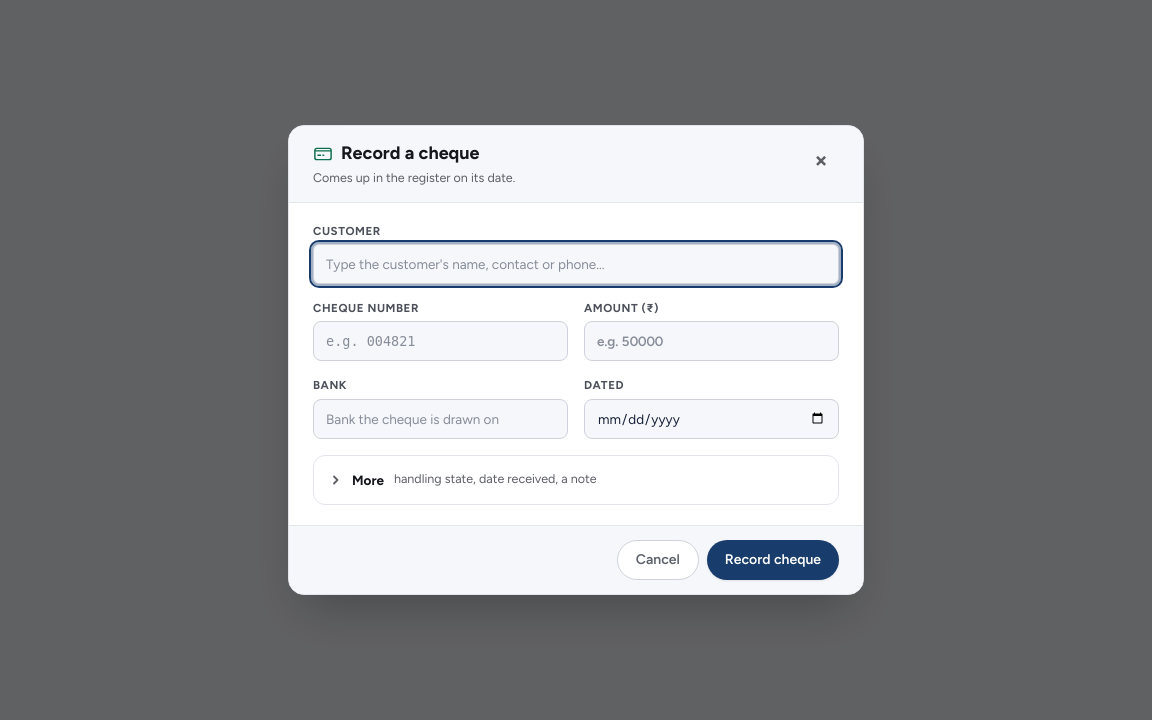
the cheque dialog on a refused save › stays open and shows the refusal; the cheque is not lost
Step 1. Type "TEST MIXED" into the field labelled "Customer" → (576,264), box [313,244,839,284]
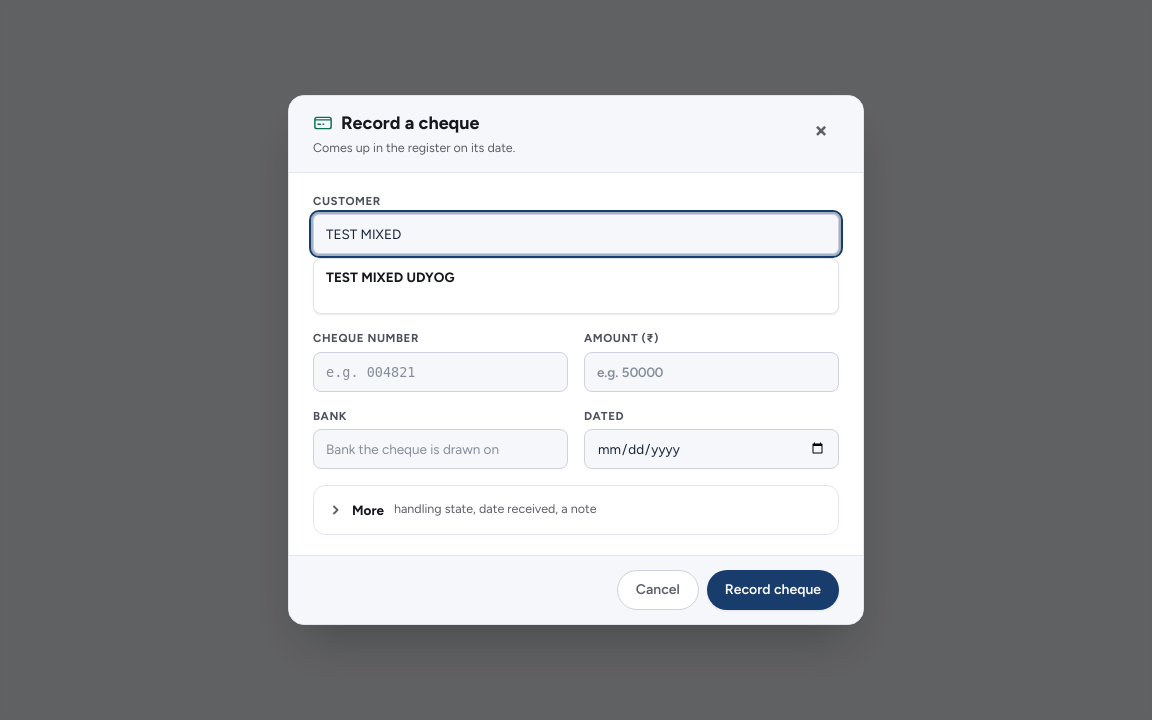
Step 2. Click the option "TEST MIXED UDYOG" → (390,277), box [314,259,838,313]
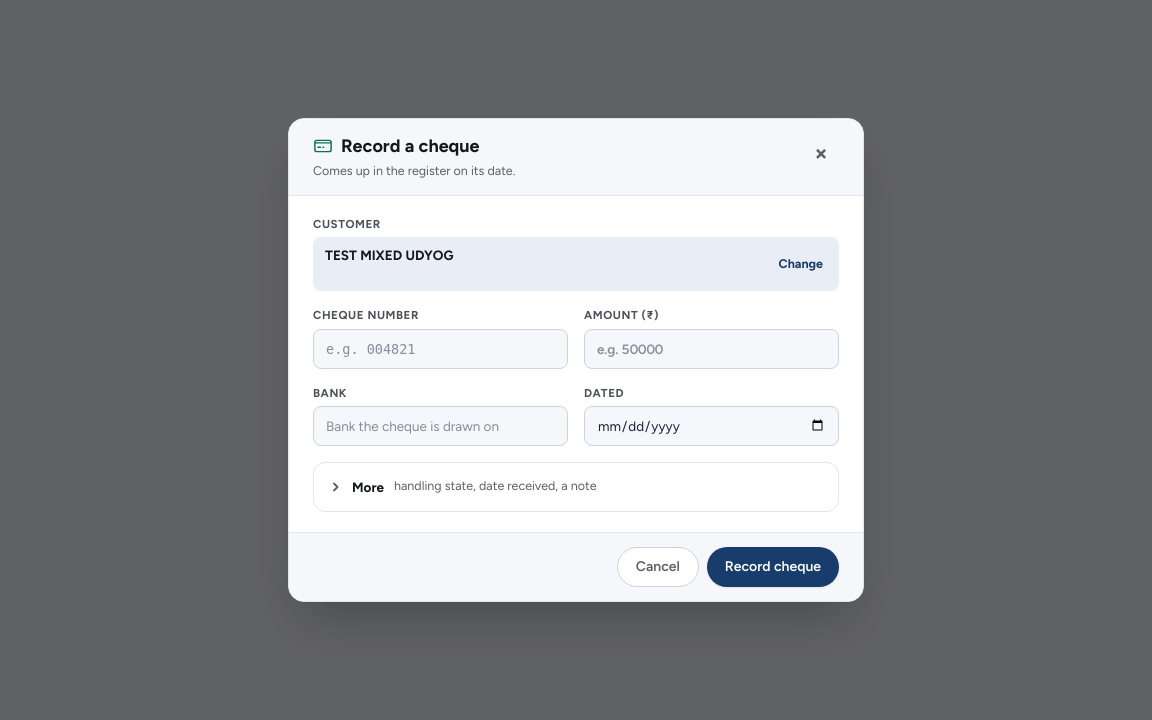
Step 3. Type "000777" into the field with placeholder "e.g. 004821" → (440,349), box [313,329,568,369]
Step 4. Type "15000" into the number field with placeholder "e.g. 50000" → (712,349), box [584,329,839,369]
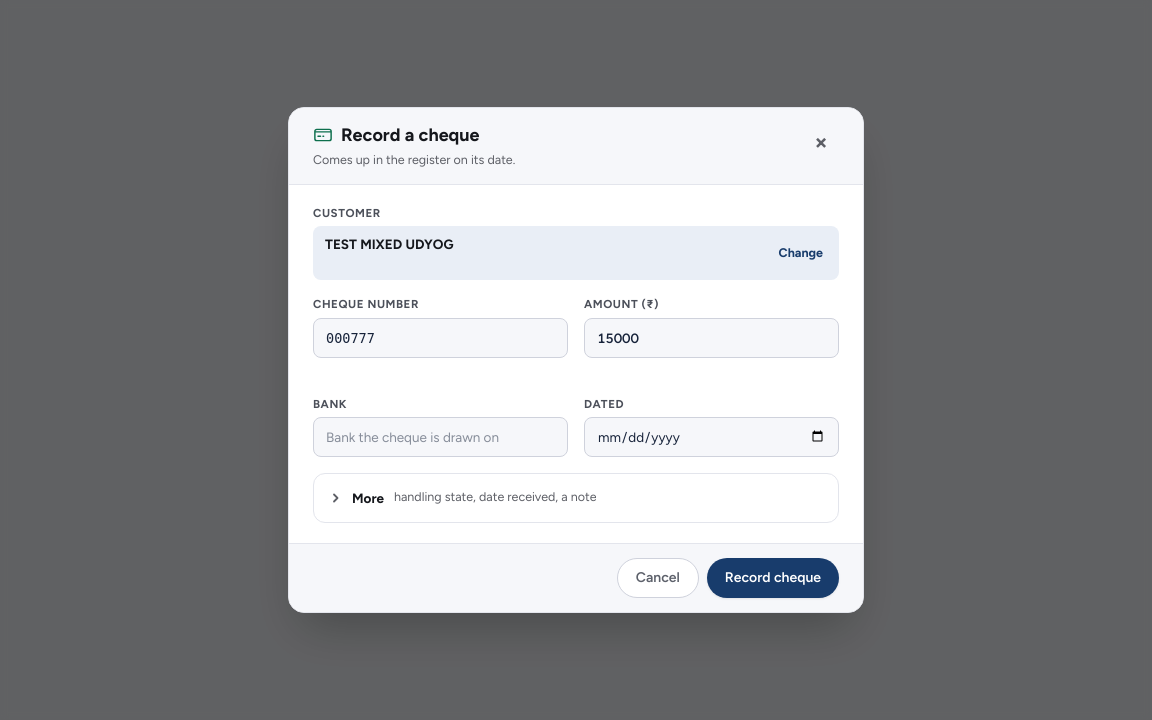
Step 5. Type "SBI" into the field labelled "Bank" → (440,437), box [313,417,568,457]
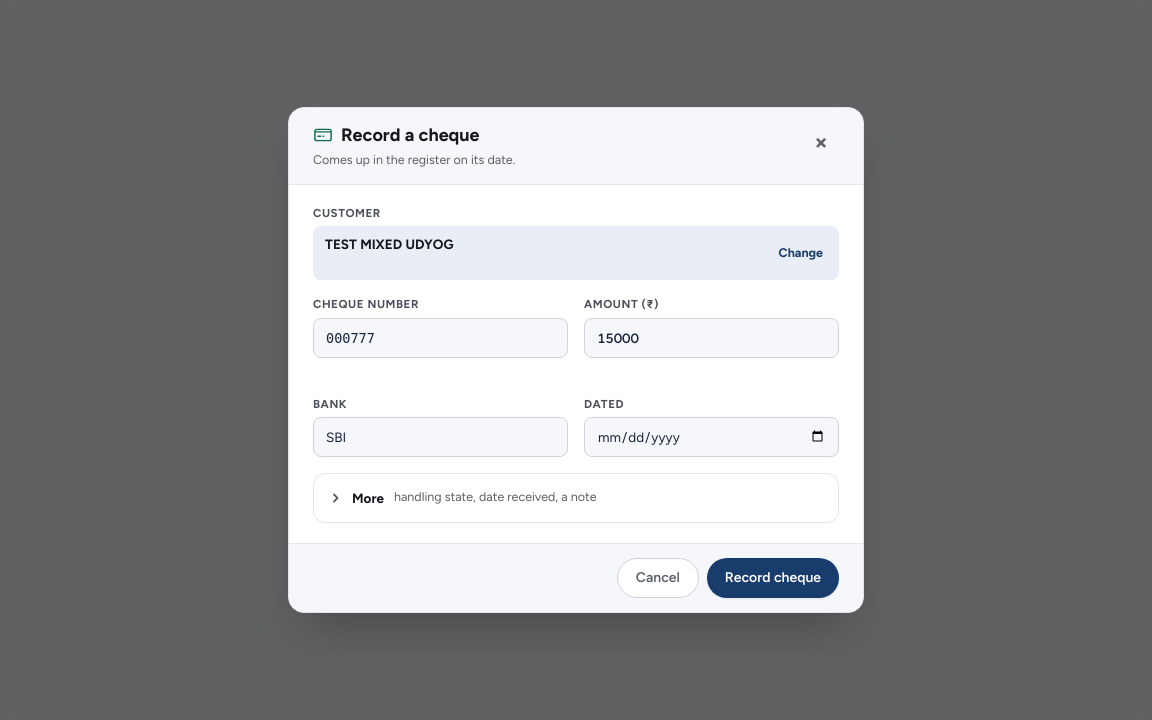
Step 6. Type "2026-12-01" into the date field labelled "Dated" → (712,437), box [584,417,839,457]
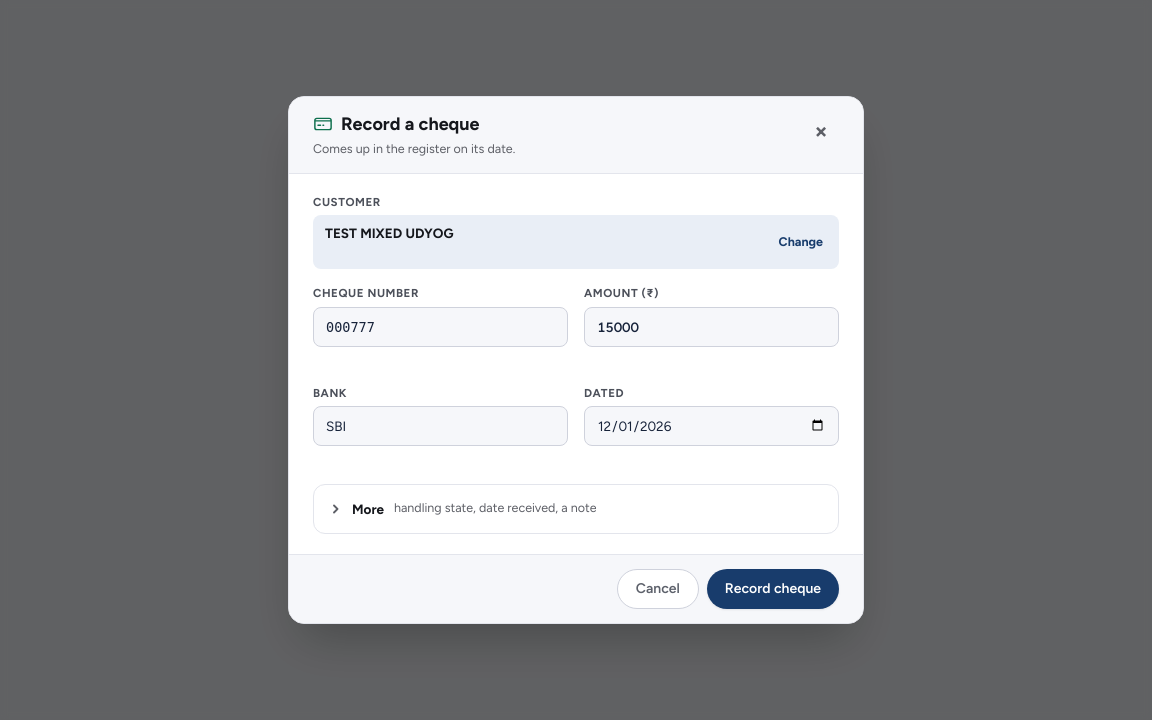
Step 7. Click the button "Record cheque" → (773,589), box [707,569,839,609]
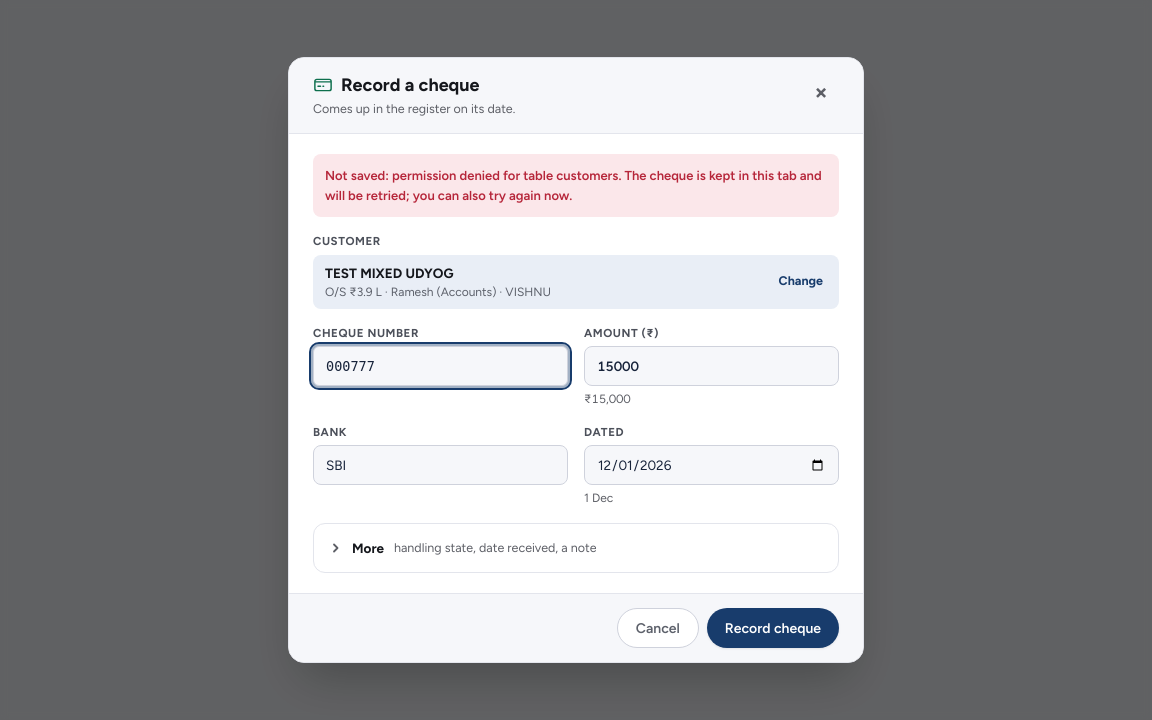
Expected: the button "Record cheque" is enabled, [707,608,839,648]
Result: the text "Not saved: permission denied" is shown at [325,168,822,203]
